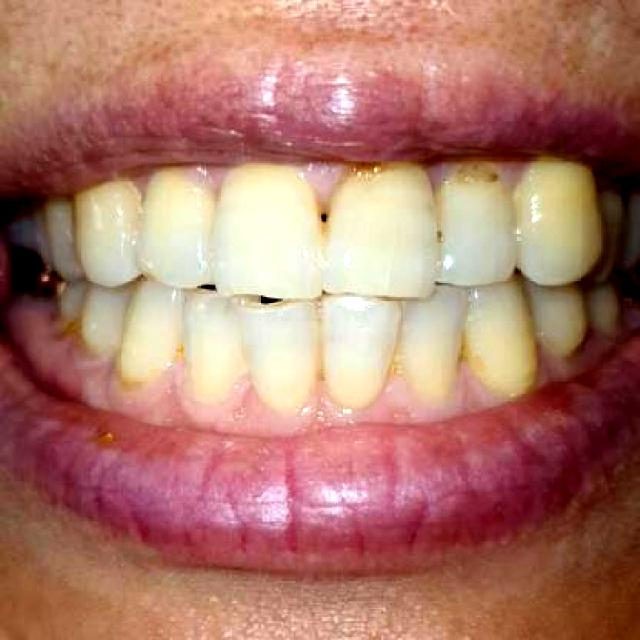Plaque: (21, 308, 182, 407), (381, 367, 416, 403), (431, 226, 449, 247)
